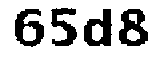5: (50, 6, 79, 48)
6: (10, 4, 45, 50)
8: (119, 7, 149, 50)
d: (81, 4, 115, 54)
